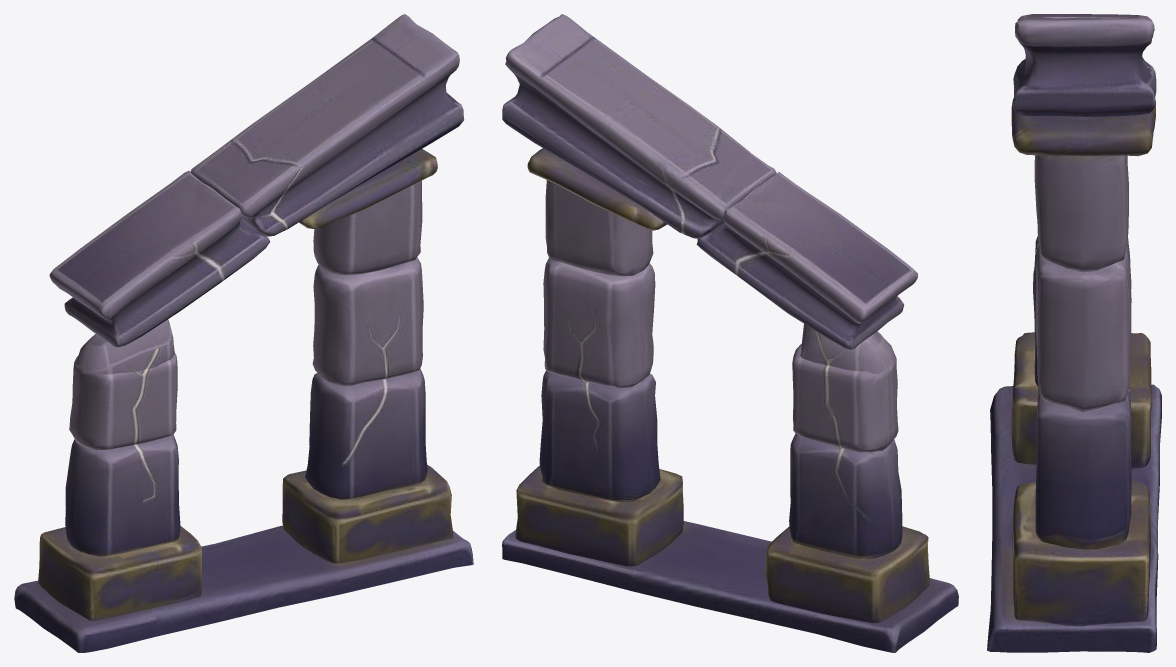
File: ce_pilar_quebrado.glb
The picture shows the model from 3 angles, left to right: view 1: azimuth 30°, elevation 25°; view 2: azimuth 150°, elevation 25°; view 3: azimuth 270°, elevation 25°; orthographic projection. The views are drawn at different scales.
Visible parts, largest first — view 1: Mesh_0.002; view 2: Mesh_0.002; view 3: Mesh_0.002.
Part boxes in pixels (x1=…): Mesh_0.002: x1=14, y1=14, x2=473, y2=652; Mesh_0.002: x1=502, y1=14, x2=958, y2=652; Mesh_0.002: x1=987, y1=14, x2=1161, y2=652.
Size of the model in its own units: 0.389 by 0.4791 by 0.1208.
Materials: 1 (1 with a texture image).
